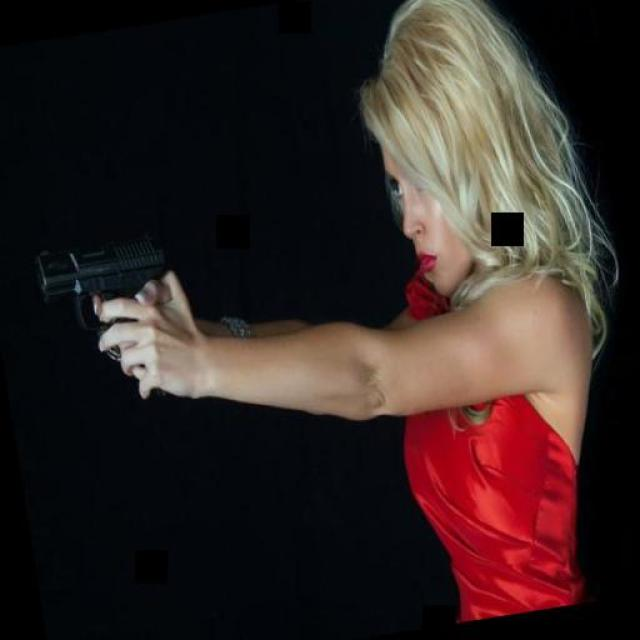gun: (28, 222, 194, 412)
